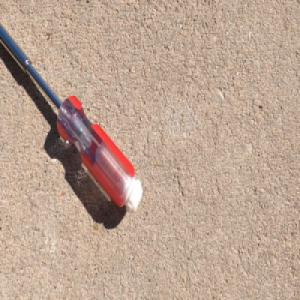Screwdriver: (0, 20, 144, 214)
